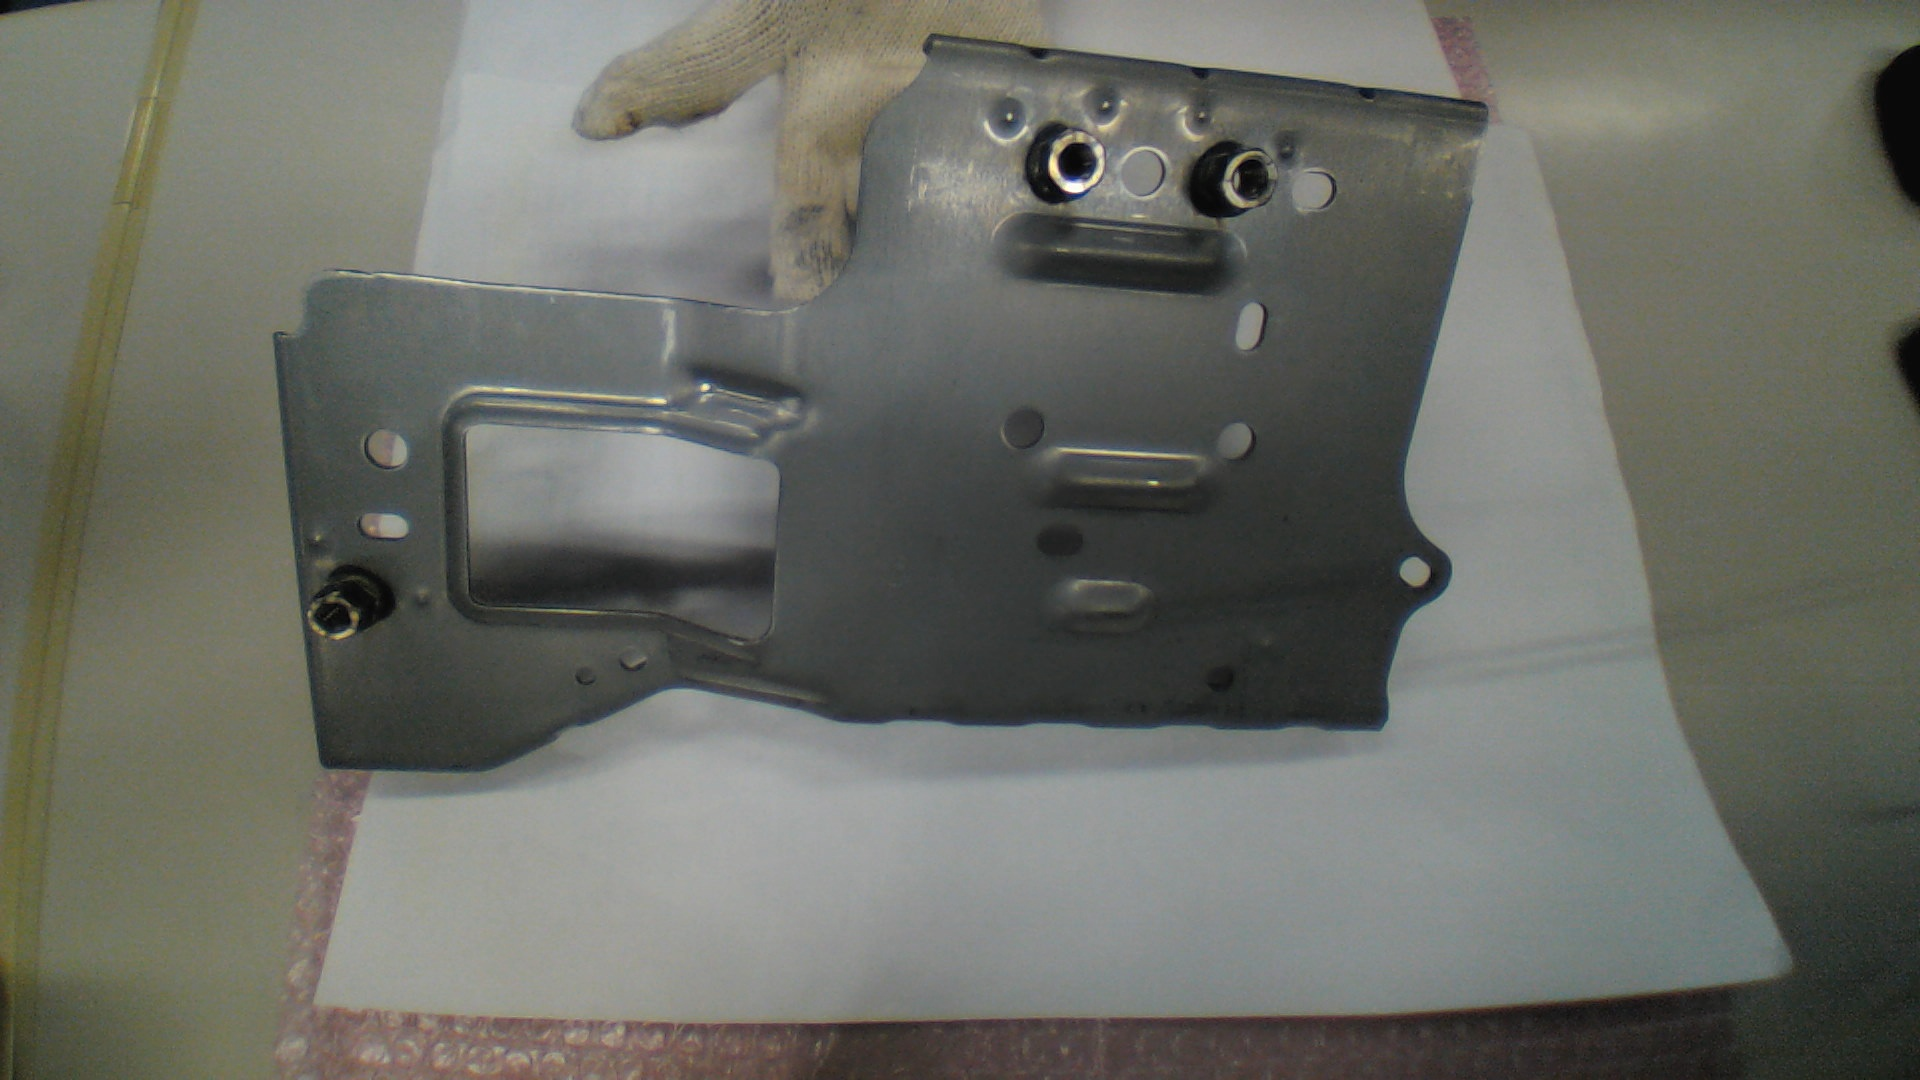dog: (1023, 123, 1108, 206), (305, 564, 396, 640), (1188, 142, 1279, 218)
